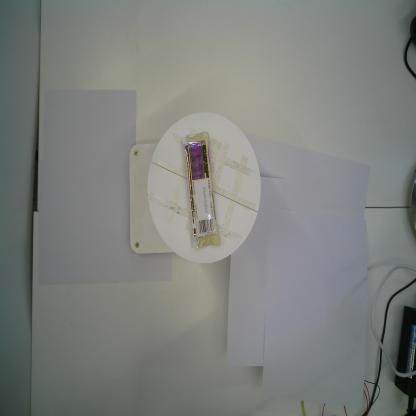Chocolate: (181, 130, 220, 250)
